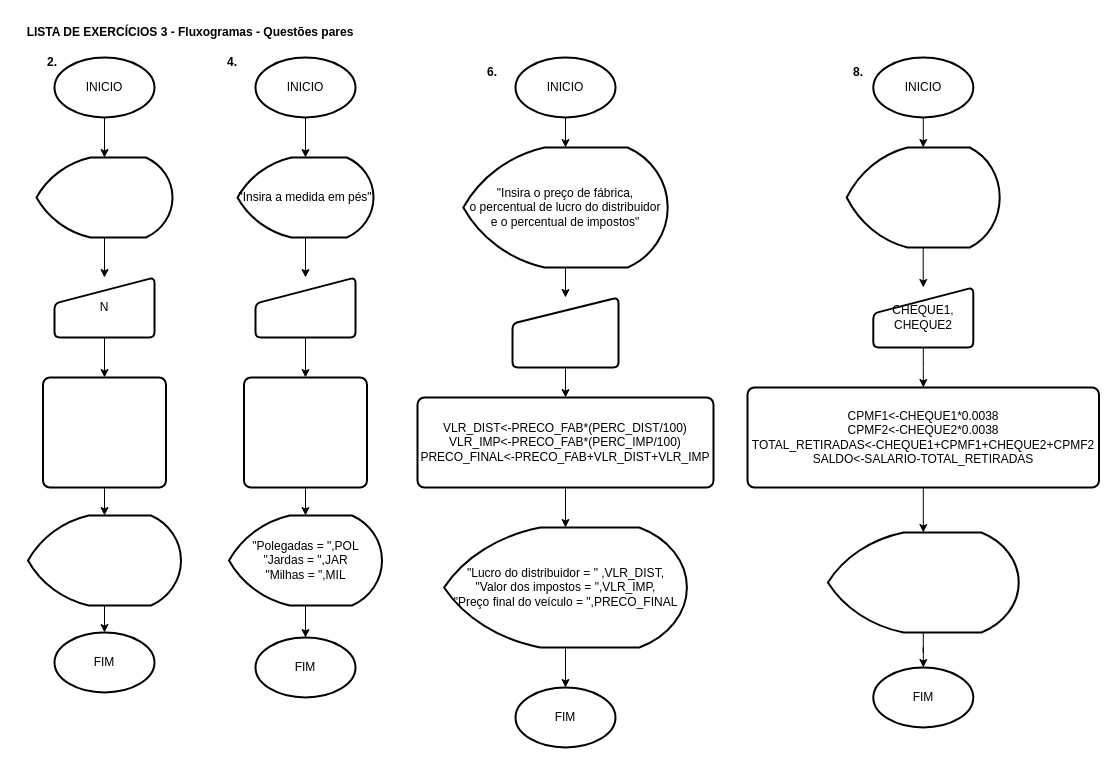
Some shapes in this 1117 by 765 pixel diagram are drawn without their labels. The shapes that lost their labels are listed below. From the top down, each one's centre as x and y in pixels, then its label:
point (104, 197): "Insira o número"
point (922, 197): "Insira o valor do primeiro e do segundo cheque"
point (305, 307): PES
point (565, 332): PRECO_FAB, PERC_DIST, PERC_IMP
point (104, 432): Q<-N*N C<-N*N*N RQ<-N**(1.0/2.0) RC<-N**(1.0/3.0)
point (305, 432): POL<-PES*12 JAR<-PES/3 MIL<-JAR/1760
point (104, 560): "Quadrado = ",Q, "Cubo = ",C, "Raiz quadrada = ",RQ, "Raiz cúbica = ",RC
point (922, 582): "Saldo atual da conta = ",SALDO
